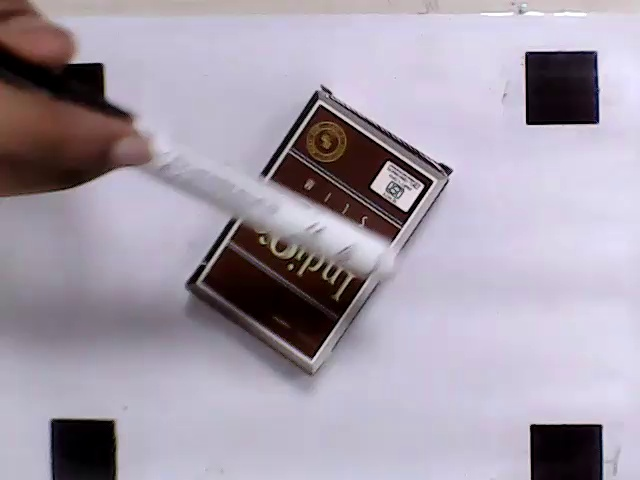BEX: (198, 102, 434, 361)
